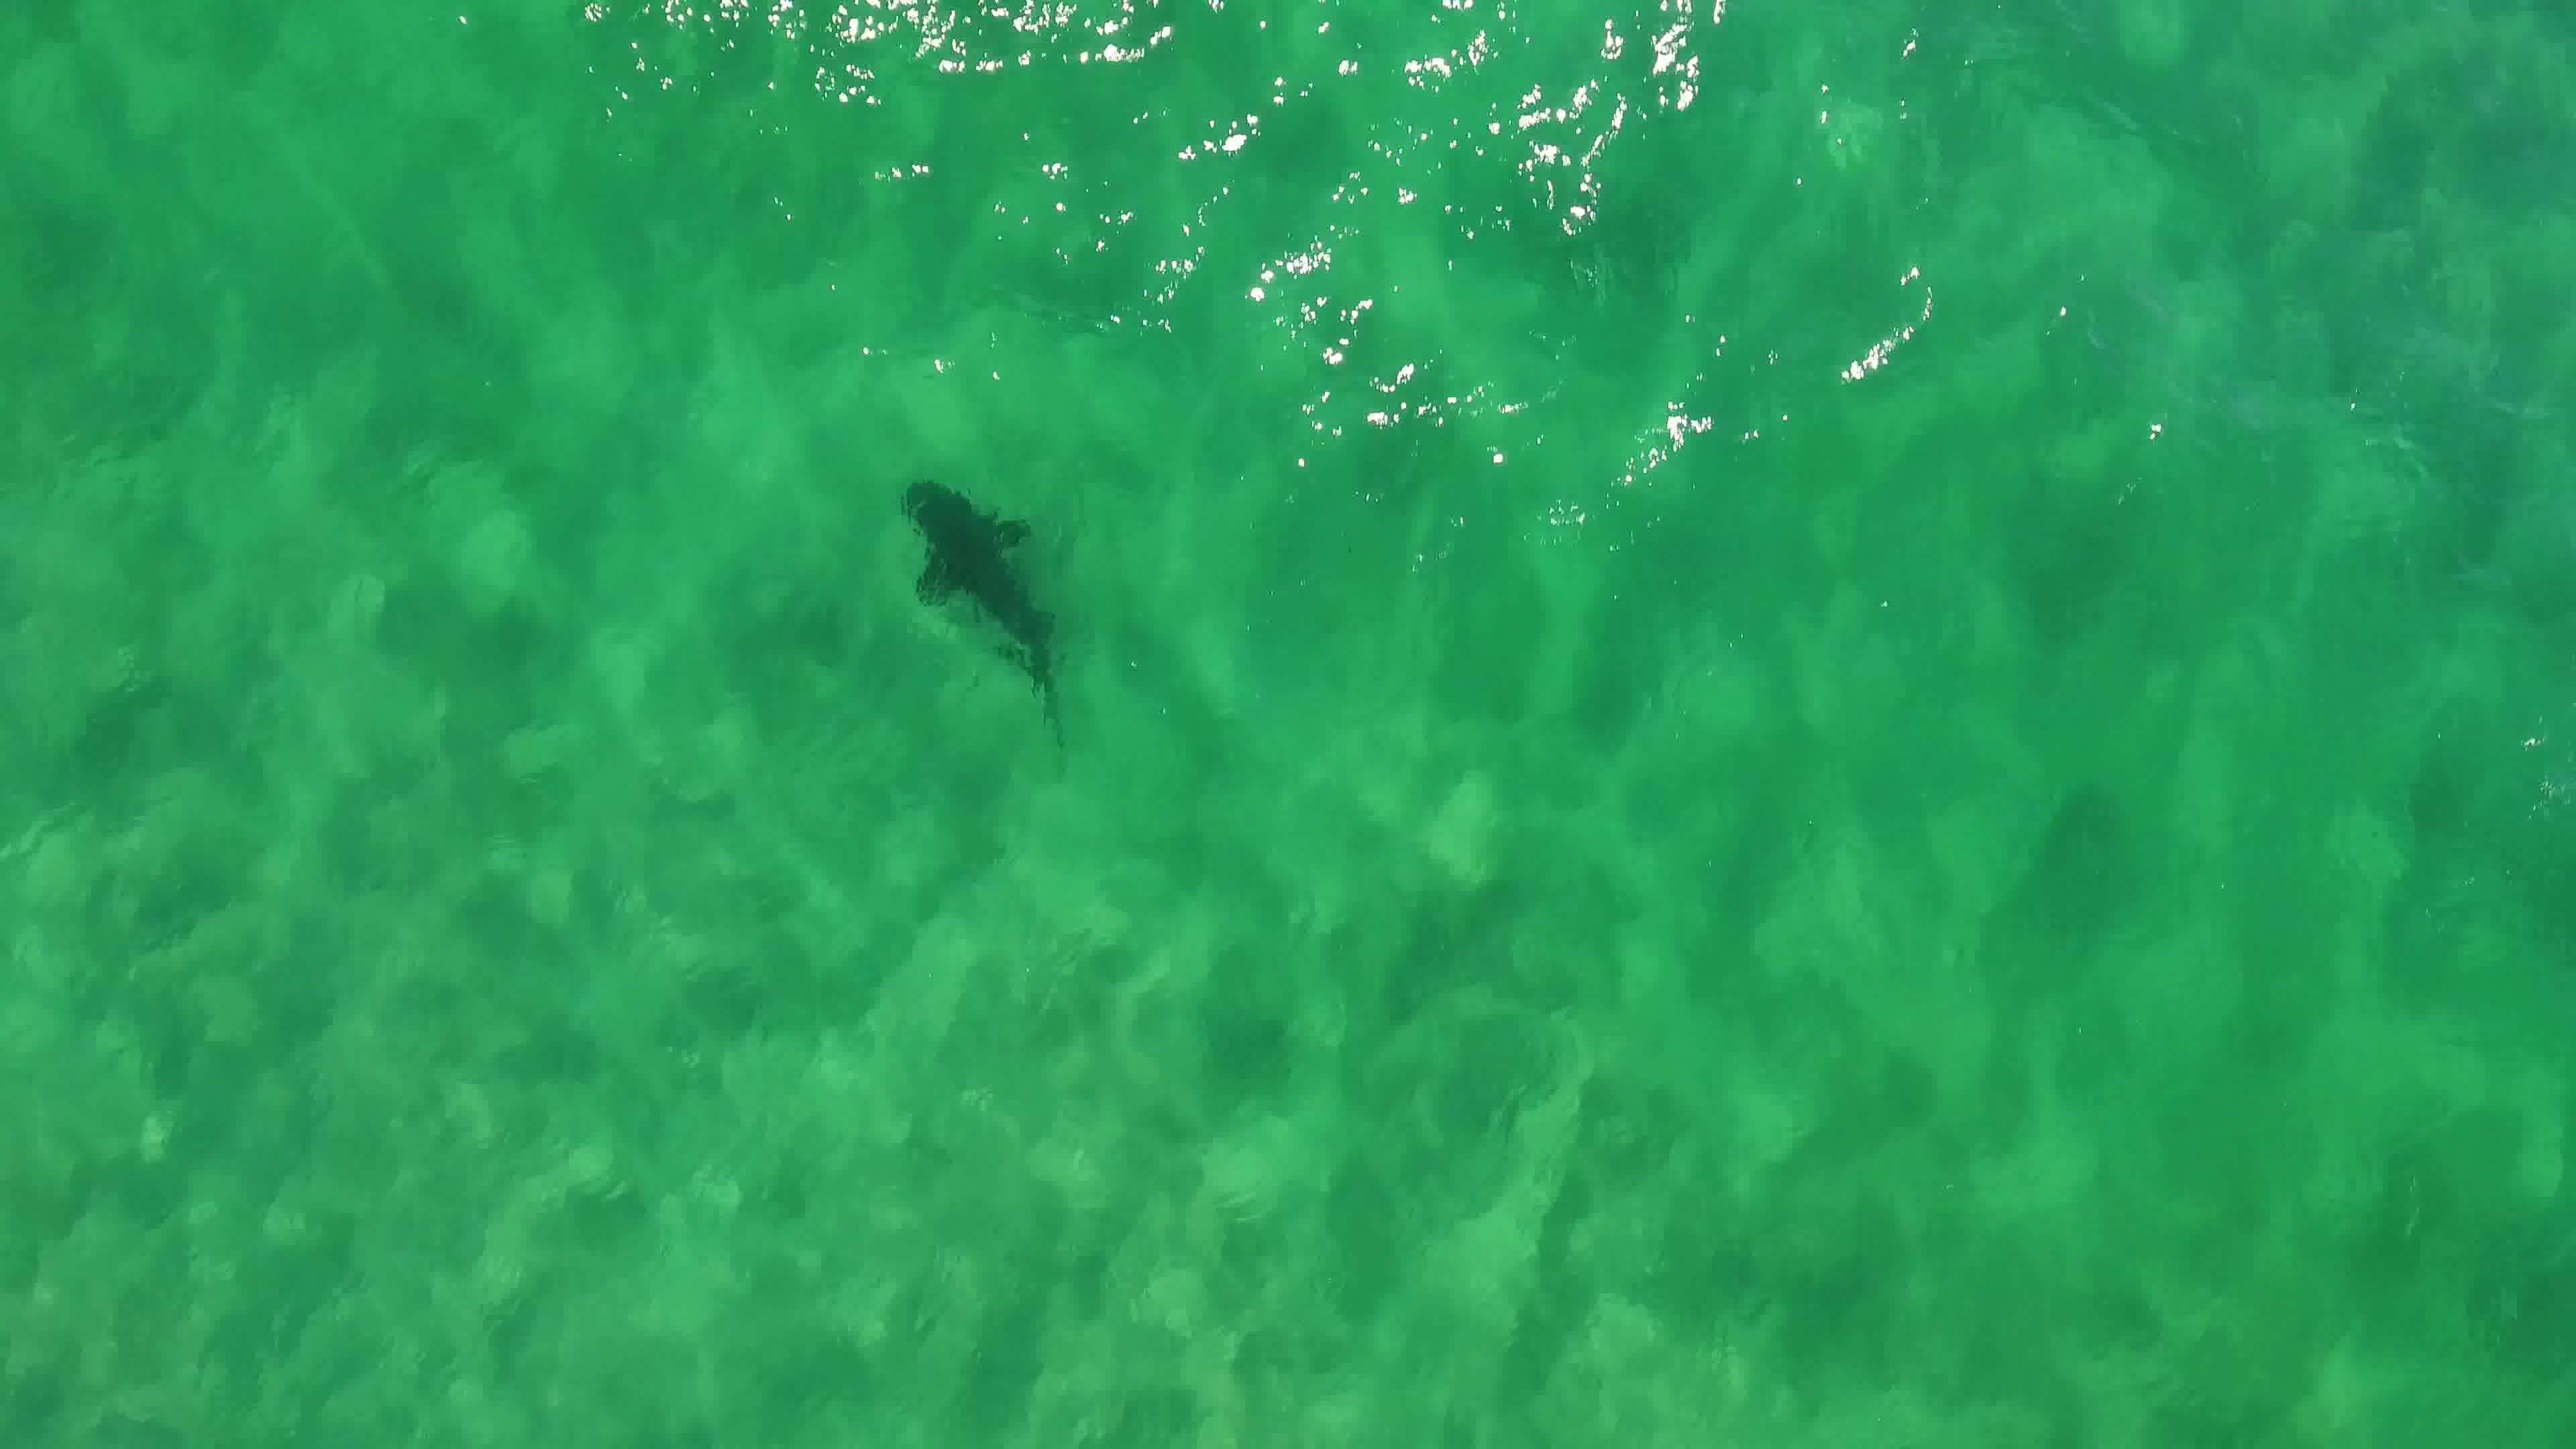shark: (897, 467, 1069, 738)
